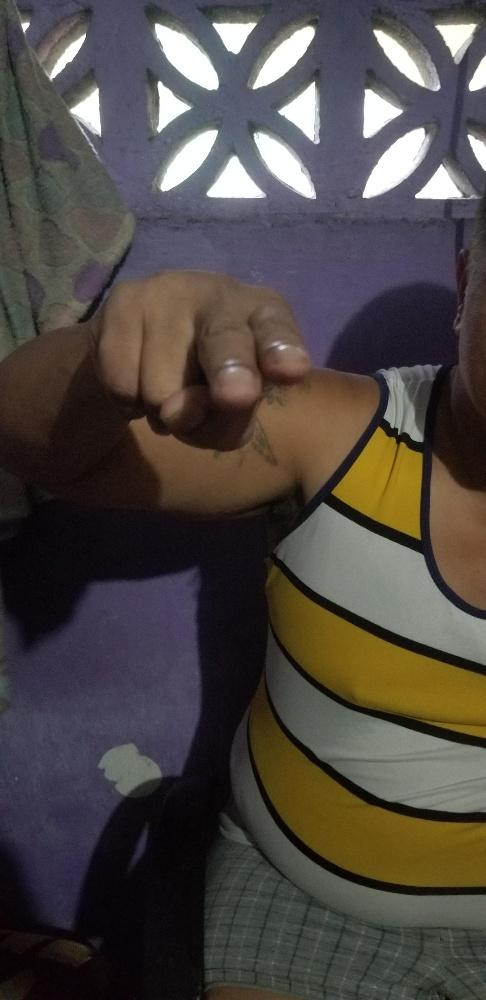n: (94, 265, 311, 452)
